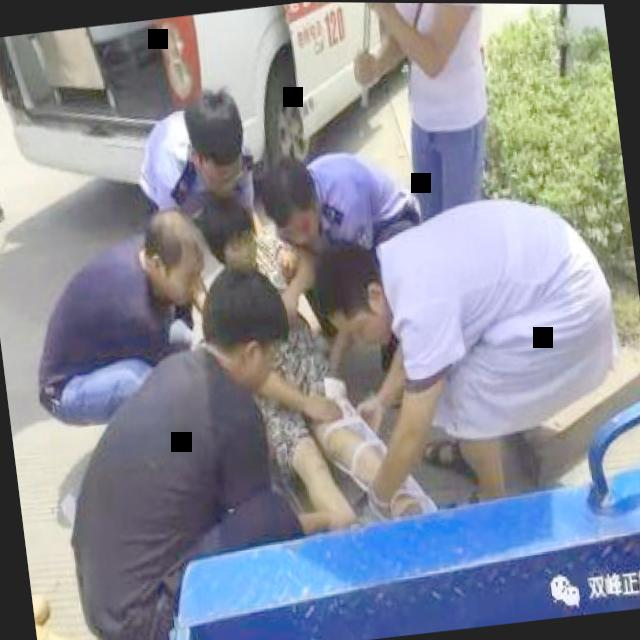Fall-Detected: (223, 251, 427, 520)
